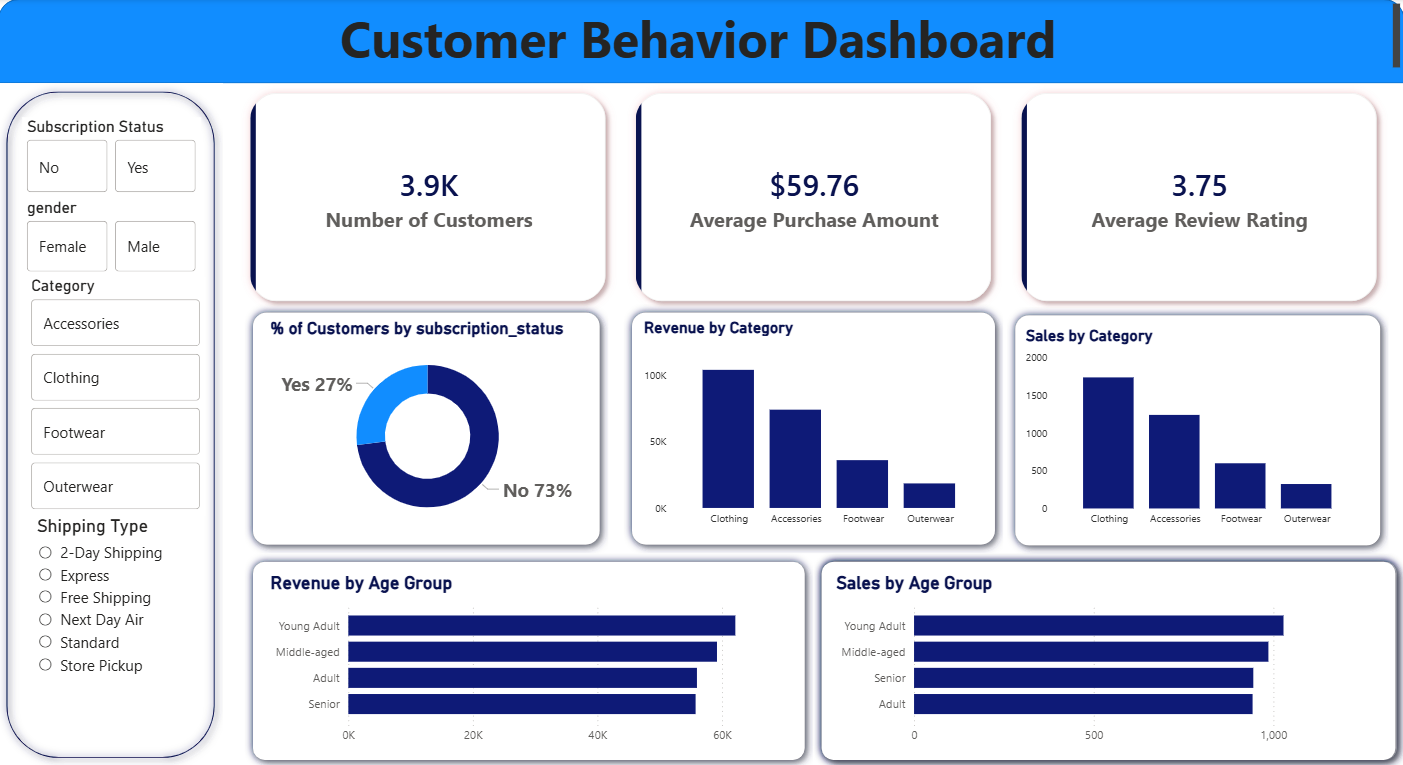

The page's visual inventory and layout, read from the dashboard file:
{"tool":"powerbi","page":{"name":"Page 1","canvas":[1500,820],"ordinal":0},"visuals":[{"type":"cardVisual","fields":{"Data":["public customer.Number of Customers","public customer.Average Purchase Amount","public customer.Average Review Rating"]},"box":[240,70.7,1260.3,280.8],"z":0},{"type":"shape","box":[0,0,1500.3,90],"z":1000},{"type":"textbox","box":[72,352,1158,282],"z":2000},{"type":"textbox","box":[0,0,1500.3,79.3],"z":3000},{"type":"shape","box":[263.6,325.8,387.9,265.8],"z":4000},{"type":"donutChart","title":"% of Customers by subscription_status","fields":{"Category":["public customer.subscription_status"],"Y":["CountNonNull(public customer.customer_id)"]},"box":[285.1,340.8,345.1,231.5],"z":5000},{"type":"shape","box":[666.6,325.8,405.1,265.8],"z":6000},{"type":"shape","box":[1075.9,327.9,407.2,263.6],"z":7000},{"type":"clusteredColumnChart","title":"Revenue by Category","fields":{"Category":["public customer.category"],"Y":["Sum(public customer.purchase_amount)"]},"box":[683.7,340.8,372.9,231.5],"z":8000},{"type":"clusteredColumnChart","title":"Sales by Category","fields":{"Category":["public customer.category"],"Y":["public customer.Number of Customers"]},"box":[1090.9,349.4,366.5,222.9],"z":9000},{"type":"shape","box":[0,90,240,728.7],"z":10000},{"type":"advancedSlicerVisual","fields":{"Values":["public customer.subscription_status"]},"box":[25.7,126.5,190.8,85.7],"z":11000},{"type":"advancedSlicerVisual","fields":{"Values":["public customer.gender"]},"box":[25.7,212.2,190.8,83.6],"z":12000},{"type":"advancedSlicerVisual","fields":{"Values":["public customer.category"]},"box":[30,295.8,190.8,255.1],"z":13000},{"type":"listSlicer","title":"Shipping Type","fields":{"Values":["public customer.shipping_type"]},"box":[36.4,550.8,171.5,229.3],"z":14000},{"type":"shape","box":[263.6,591.5,606.6,229.3],"z":15000},{"type":"shape","box":[870.2,591.5,630.1,229.3],"z":16000},{"type":"clusteredBarChart","title":"Revenue by Age Group","fields":{"Category":["public customer.age_group"],"Y":["Sum(public customer.purchase_amount)"]},"box":[285.1,610.8,568,192.9],"z":18000},{"type":"shape","box":[869.9,590.7,630.1,229.3],"z":18001},{"type":"clusteredBarChart","title":"Sales by Age Group","fields":{"Category":["public customer.age_group"],"Y":["CountNonNull(public customer.customer_id)"]},"box":[889.5,610.8,568,192.9],"z":18002}]}

Visuals, with their boxes in screenshot pixels (x1, y1, x2, y2), scaled from the page's 1500x820 canvas onto the 1403x765 screenshot:
cardVisual - public customer.Number of Customers x public customer.Average Purchase Amount: pyautogui.locateOnScreen(224, 66, 1402, 328)
shape: pyautogui.locateOnScreen(0, 0, 1402, 84)
textbox: pyautogui.locateOnScreen(67, 328, 1150, 591)
textbox: pyautogui.locateOnScreen(0, 0, 1402, 74)
shape: pyautogui.locateOnScreen(247, 304, 609, 552)
"% of Customers by subscription_status" donutChart: pyautogui.locateOnScreen(267, 318, 589, 534)
shape: pyautogui.locateOnScreen(623, 304, 1002, 552)
shape: pyautogui.locateOnScreen(1006, 306, 1387, 552)
"Revenue by Category" clusteredColumnChart: pyautogui.locateOnScreen(639, 318, 988, 534)
"Sales by Category" clusteredColumnChart: pyautogui.locateOnScreen(1020, 326, 1363, 534)
shape: pyautogui.locateOnScreen(0, 84, 224, 764)
advancedSlicerVisual - public customer.subscription_status: pyautogui.locateOnScreen(24, 118, 202, 198)
advancedSlicerVisual - public customer.gender: pyautogui.locateOnScreen(24, 198, 202, 276)
advancedSlicerVisual - public customer.category: pyautogui.locateOnScreen(28, 276, 207, 514)
"Shipping Type" listSlicer: pyautogui.locateOnScreen(34, 514, 194, 728)
shape: pyautogui.locateOnScreen(247, 552, 814, 764)
shape: pyautogui.locateOnScreen(814, 552, 1402, 764)
"Revenue by Age Group" clusteredBarChart: pyautogui.locateOnScreen(267, 570, 798, 750)
shape: pyautogui.locateOnScreen(814, 551, 1402, 764)
"Sales by Age Group" clusteredBarChart: pyautogui.locateOnScreen(832, 570, 1363, 750)
